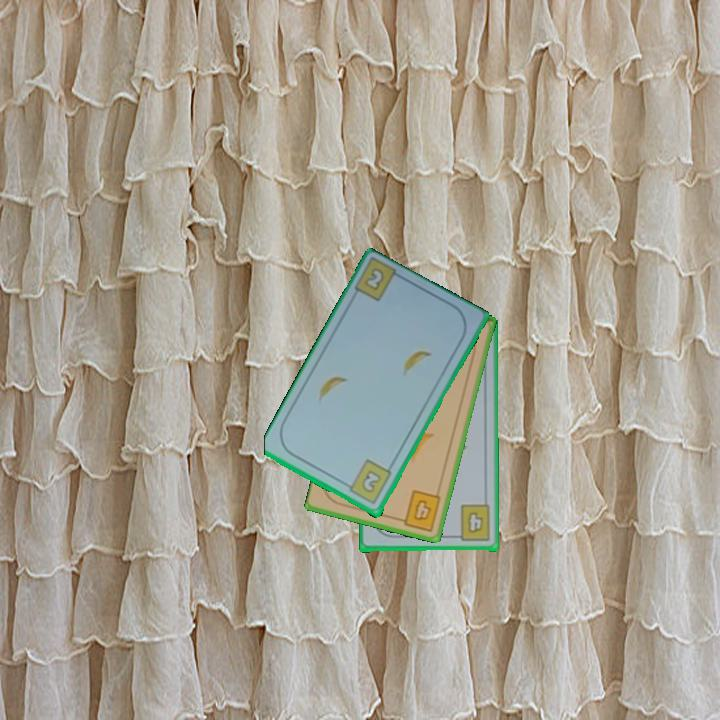2b: (341, 456, 395, 508), (361, 265, 387, 294)
4b: (394, 486, 444, 534), (450, 502, 493, 544)
